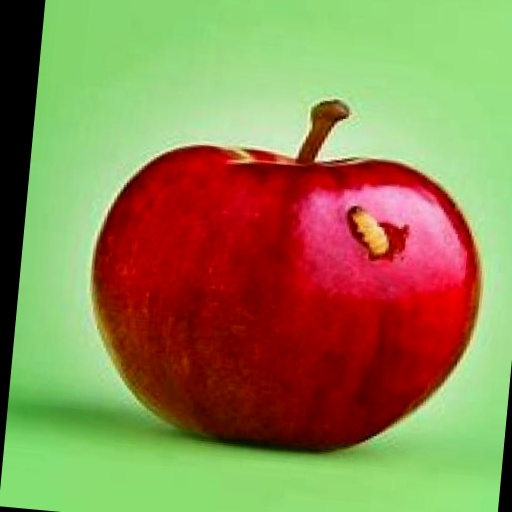fruit: (93, 101, 480, 449)
